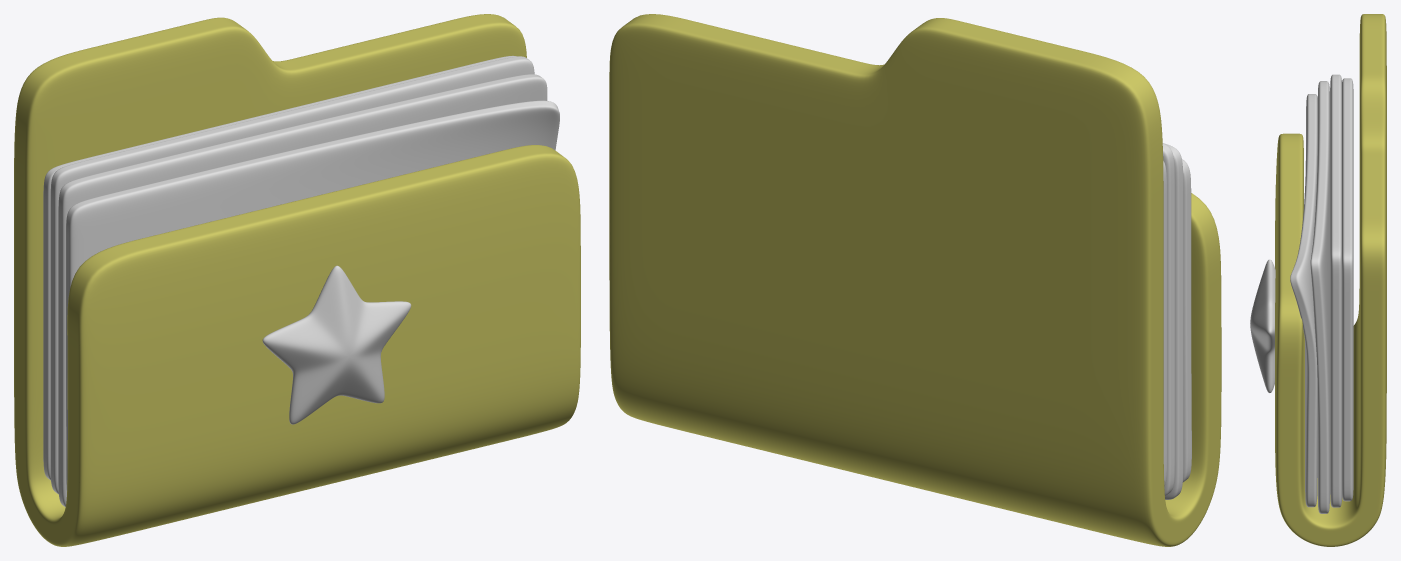
Rendered from folder.gltf.
3 views of the same model, side by side, from view 1: azimuth 30°, elevation 25°; view 2: azimuth 150°, elevation 25°; view 3: azimuth 270°, elevation 25° (orthographic). The views are drawn at different scales.
Visible parts, largest first — view 1: Folder Star; view 2: Folder Star; view 3: Folder Star.
Part boxes in pixels (x1=…): Folder Star: x1=14, y1=14, x2=580, y2=546; Folder Star: x1=609, y1=14, x2=1221, y2=546; Folder Star: x1=1250, y1=14, x2=1386, y2=546.
Size of the model in its own units: 1.9 by 1.65 by 0.5705.
